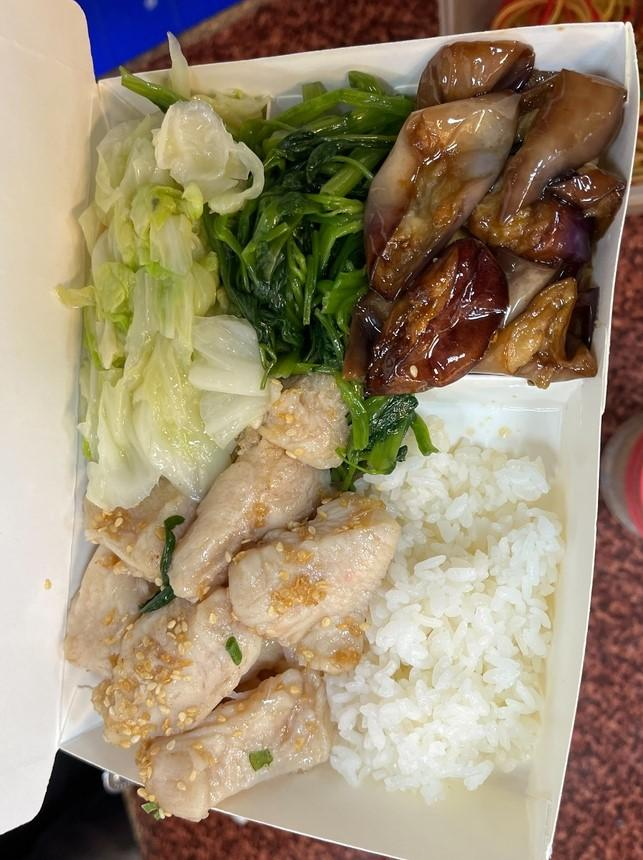big grilled chicken leg: (46, 9, 640, 860)
big herbal chicken leg: (318, 414, 571, 800)
braised fish fillet: (374, 36, 621, 390), (75, 80, 254, 520), (246, 76, 424, 464)
braised pork: (62, 368, 392, 819)
